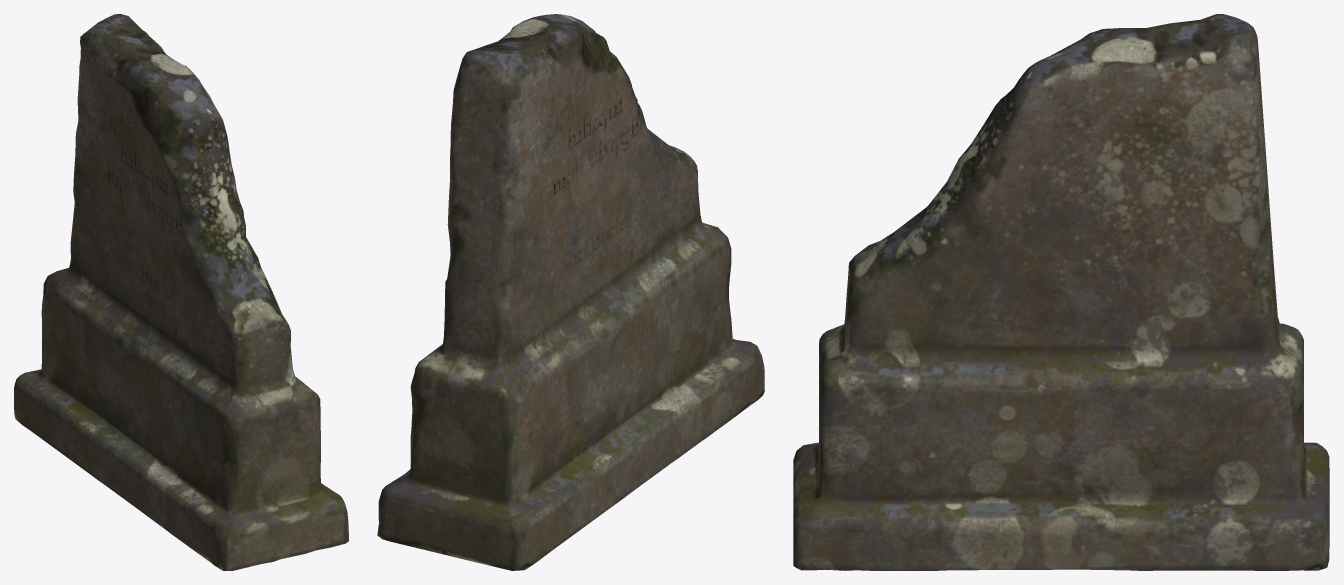
The model's file is SM_TombsBroken.fbx.
3 renders of one model, left to right at view 1: azimuth 30°, elevation 25°; view 2: azimuth 150°, elevation 25°; view 3: azimuth 270°, elevation 25°, orthographic. The views are drawn at different scales.
Parts seen in each view (by area): view 1: SM_TombsBroken_LOD0; view 2: SM_TombsBroken_LOD0; view 3: SM_TombsBroken_LOD0.
Boxes of the visible parts, left/top/right/bottom form: SM_TombsBroken_LOD0: left=14, top=14, right=348, bottom=570; SM_TombsBroken_LOD0: left=377, top=14, right=764, bottom=570; SM_TombsBroken_LOD0: left=793, top=14, right=1329, bottom=570.
Size of the model in its own units: 26.15 by 75.8 by 79.52.
Materials: 1 (1 with a texture image).
